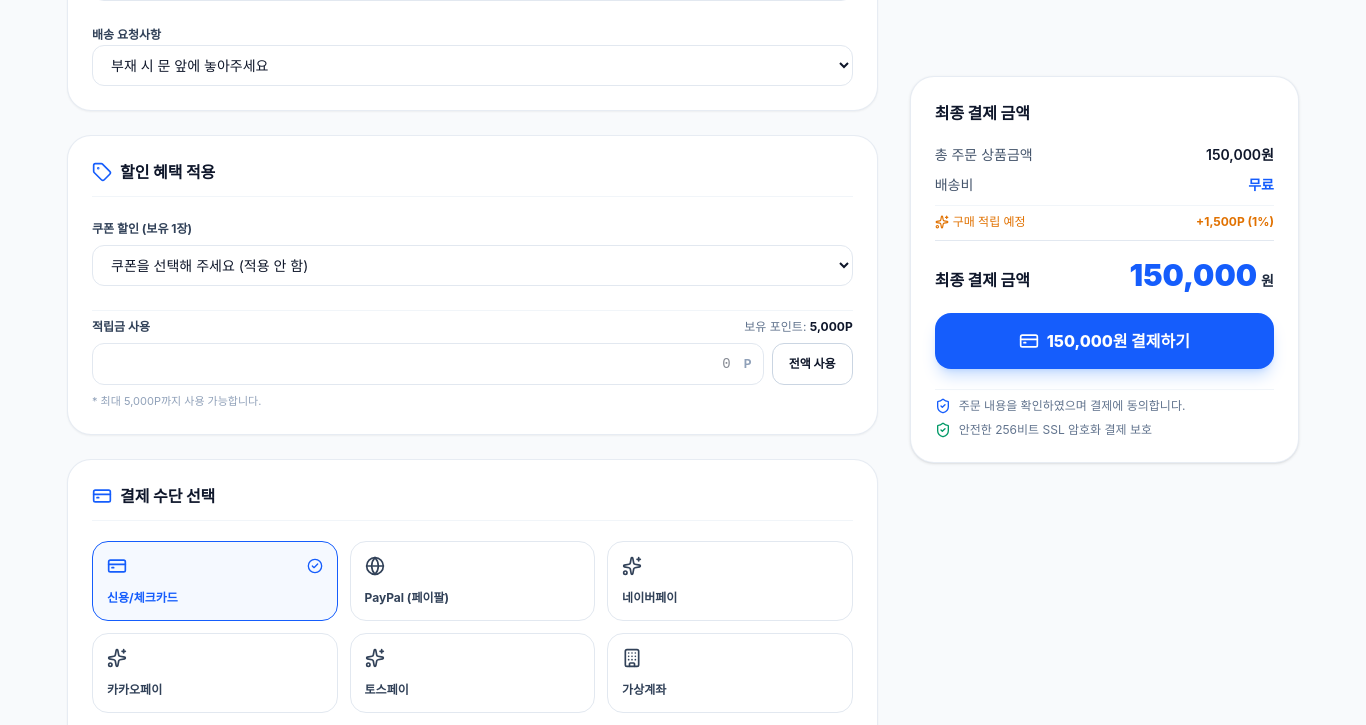
Test: CheckoutViewer Component › 적립금 전액 사용 버튼을 누르면 최대 사용 가능 포인트가 자동 적용된다
The image size is (1366, 725).
(page scrolled)
Click the button "전액 사용" at point(812, 364), box [772,343,853,385]
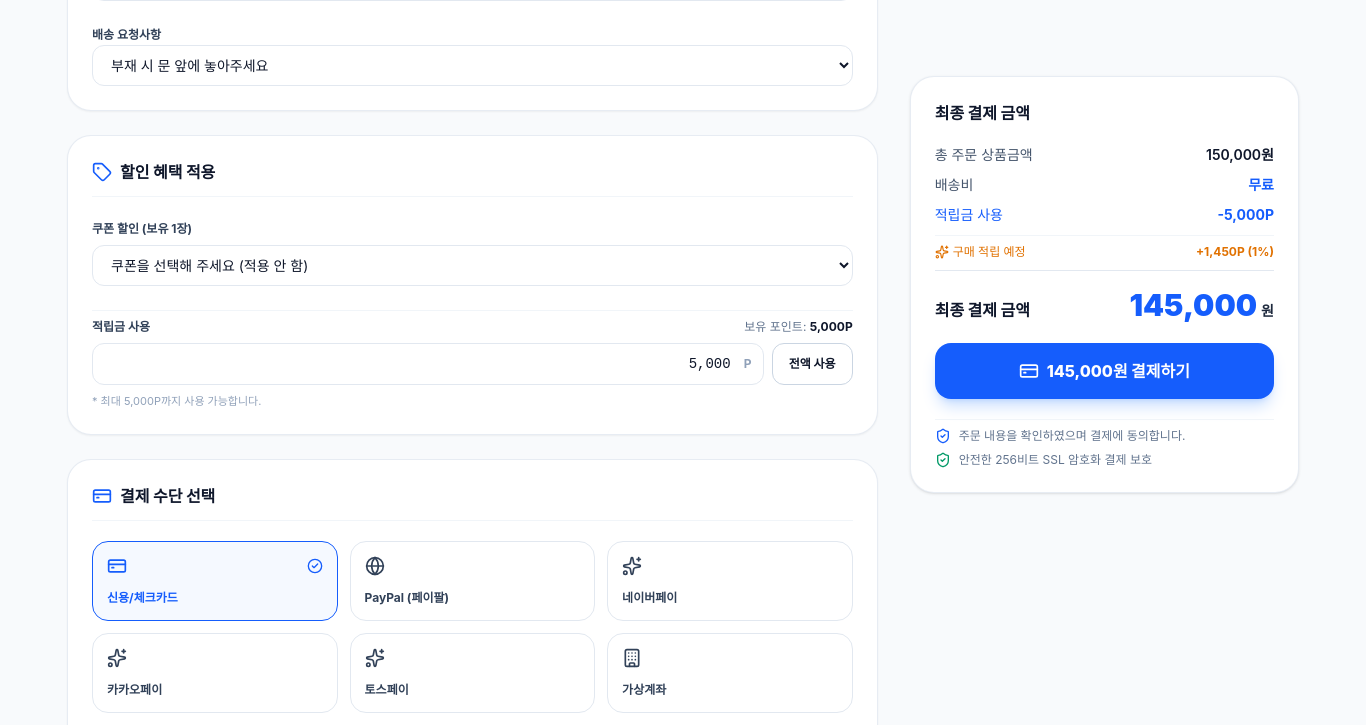
Check: the text "145,000원 결제하기" is shown, box [1047,359,1190,383]
